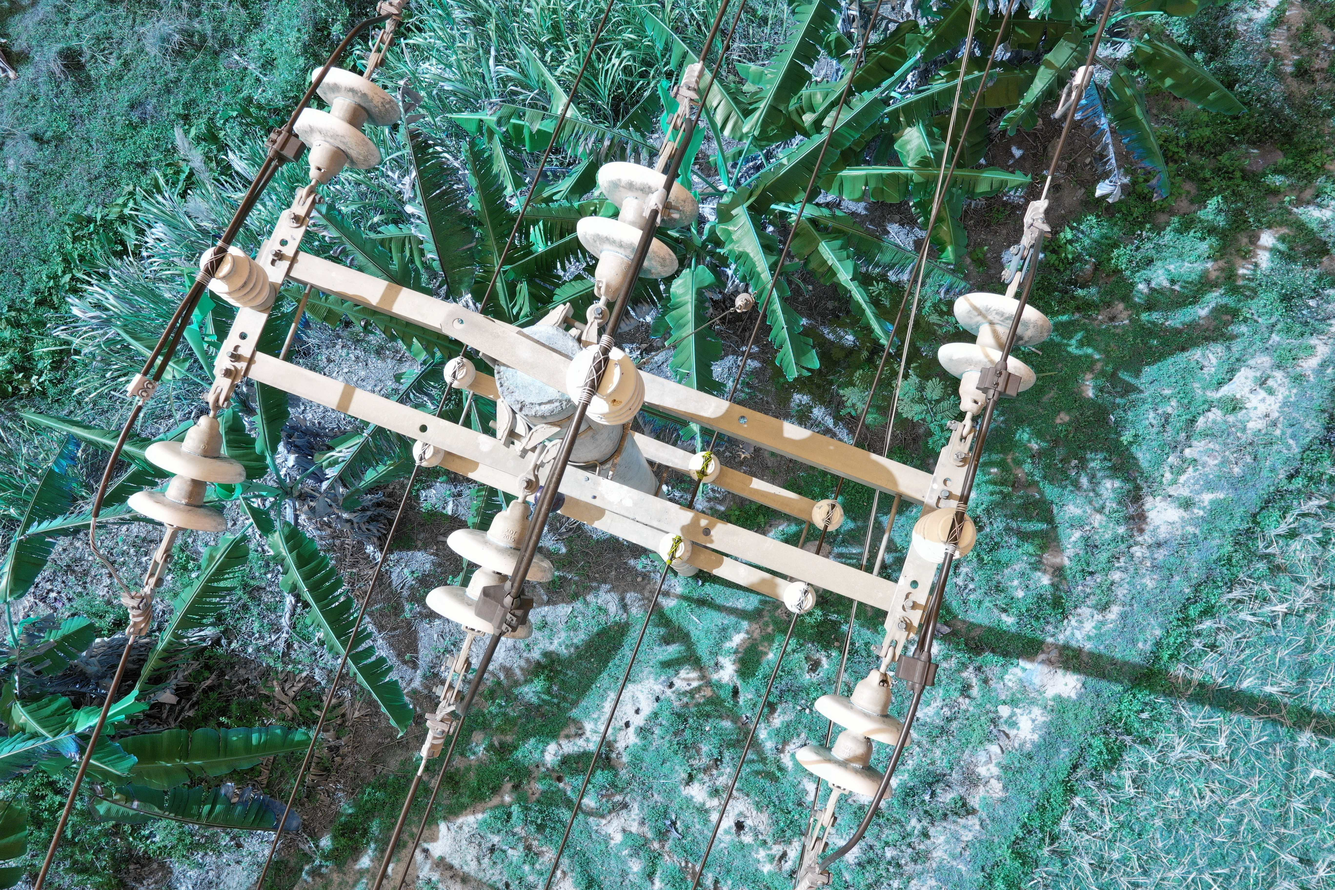severe_soiling_no_discharge_whole: (418, 496, 561, 649), (573, 156, 702, 303), (795, 663, 919, 804), (120, 417, 250, 535), (935, 292, 1055, 416), (288, 61, 402, 189), (194, 241, 277, 311)
